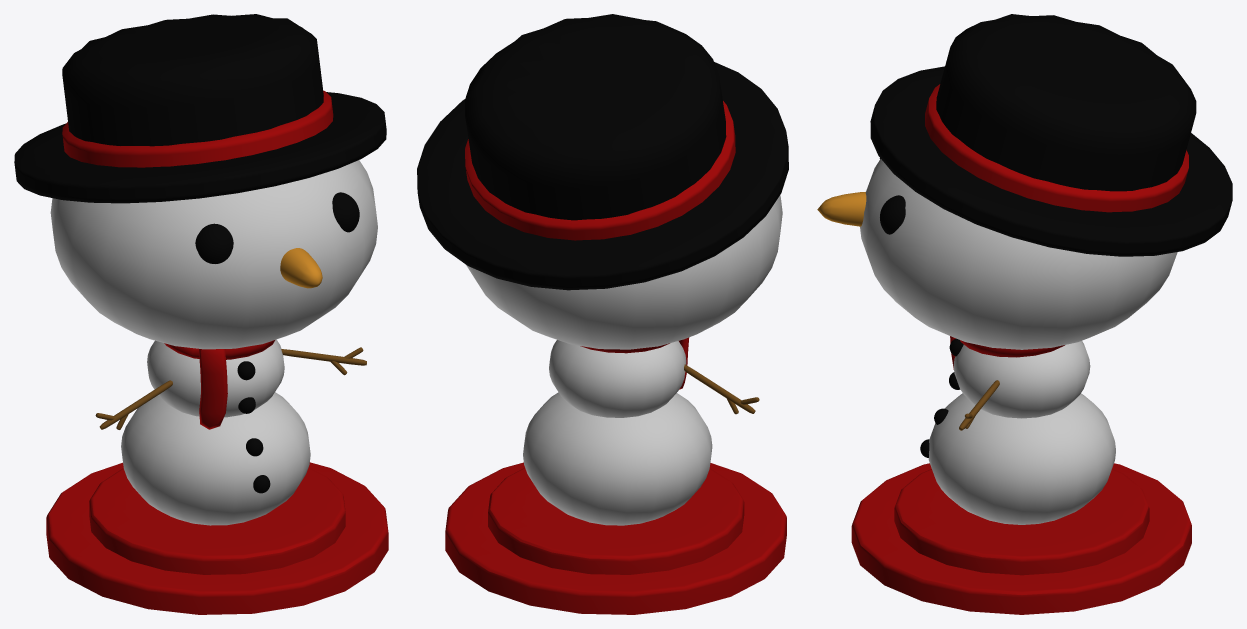
File: snowman_2015.fbx
The picture shows the model from 3 angles, left to right: view 1: azimuth 30°, elevation 25°; view 2: azimuth 150°, elevation 25°; view 3: azimuth 270°, elevation 25°; orthographic projection.
Visible parts, largest first — view 1: pSphere4, pCylinder12, polySurface37, pSphere3, polySurface38, polySurface39, pSphere5, pCube1, pCone1, pSphere6, pSphere7, pPipe1 (+2 smaller); view 2: polySurface37, pCylinder12, polySurface38, pSphere3, pSphere4, pSphere5, polySurface39, pCylinder6; view 3: polySurface37, pCylinder12, pSphere4, polySurface38, pSphere3, pSphere5, polySurface39, pCone1, pSphere7, pPipe1.
Boxes of the visible parts, <box> form: pSphere4: <box>50,160,377,349</box>; pCylinder12: <box>46,462,388,614</box>; polySurface37: <box>62,14,323,146</box>; pSphere3: <box>121,392,310,525</box>; polySurface38: <box>14,92,386,203</box>; polySurface39: <box>62,90,333,167</box>; pSphere5: <box>147,339,284,417</box>; pCube1: <box>199,349,227,429</box>; pCone1: <box>280,248,322,288</box>; pSphere6: <box>195,223,233,263</box>; pSphere7: <box>332,192,359,232</box>; pPipe1: <box>164,340,275,359</box>; polySurface37: <box>464,14,726,220</box>; pCylinder12: <box>445,462,786,614</box>; polySurface38: <box>417,62,788,290</box>; pSphere3: <box>523,392,712,525</box>; pSphere4: <box>466,195,782,349</box>; pSphere5: <box>549,340,686,417</box>; polySurface39: <box>465,101,735,240</box>; pCylinder6: <box>684,364,755,413</box>; polySurface37: <box>936,14,1196,191</box>; pCylinder12: <box>851,463,1191,614</box>; pSphere4: <box>860,159,1177,349</box>; polySurface38: <box>870,66,1232,256</box>; pSphere3: <box>928,393,1115,524</box>; pSphere5: <box>953,341,1090,418</box>; polySurface39: <box>925,84,1188,212</box>; pCone1: <box>817,192,866,226</box>; pSphere7: <box>880,195,905,234</box>; pPipe1: <box>960,340,1064,357</box>.
Size of the model in its own units: 17.87 by 26.58 by 20.05.
